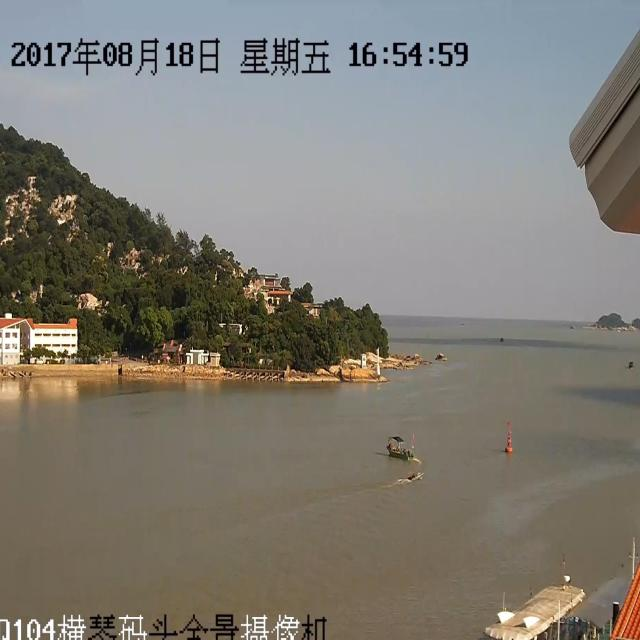buoy: (493, 417, 521, 470)
fishing boat: (376, 421, 424, 470)
